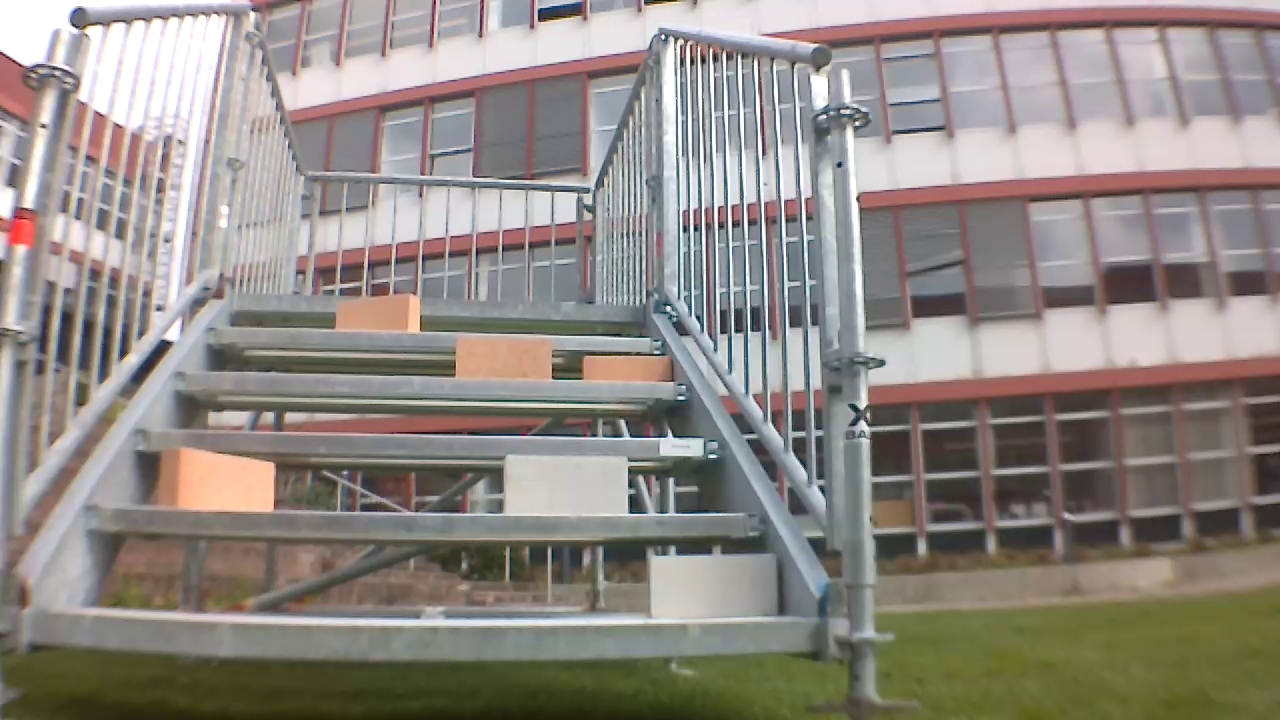brick: (648, 555, 777, 616), (159, 446, 274, 510), (504, 456, 628, 513), (455, 336, 552, 377), (336, 294, 418, 329), (582, 355, 671, 380)
edge: (32, 610, 819, 661), (86, 504, 765, 541), (136, 429, 722, 459), (172, 371, 689, 401), (207, 325, 663, 352), (239, 292, 644, 321)
stairs: (3, 2, 896, 717)
steps: (27, 286, 826, 678)
